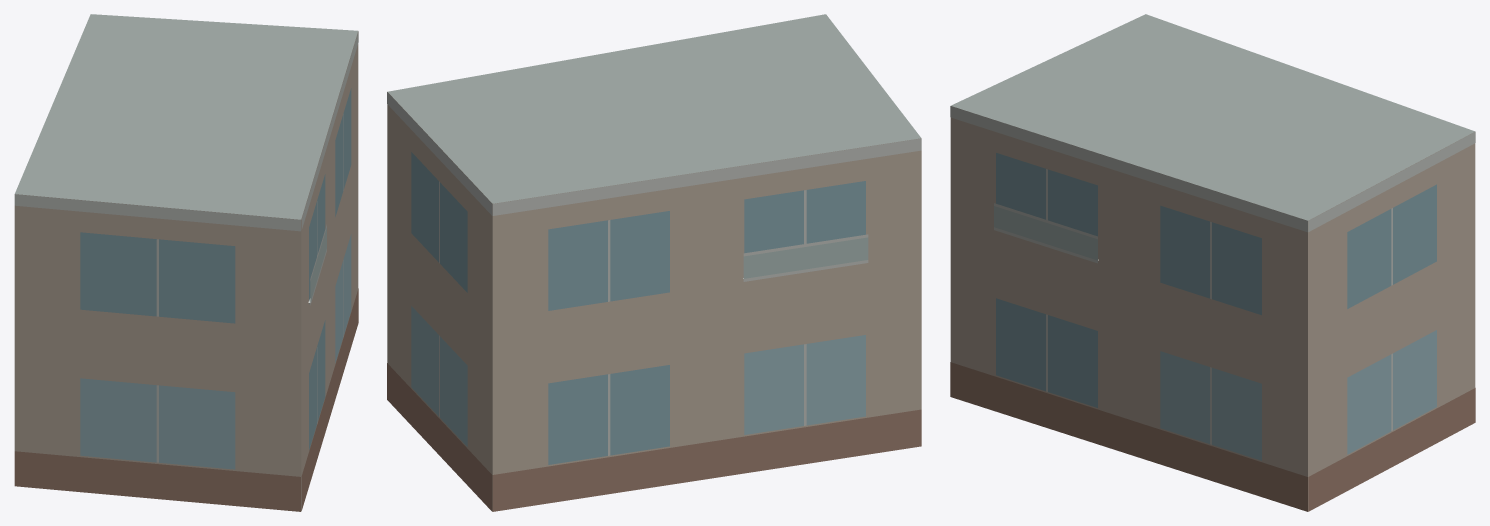
Rendered from survey-upis-32818180.glb.
3 renders of one model, left to right at view 1: azimuth 30°, elevation 25°; view 2: azimuth 150°, elevation 25°; view 3: azimuth 270°, elevation 25°, orthographic. The views are drawn at different scales.
Visible parts, largest first — view 1: survey-upis-32818180.tmp; view 2: survey-upis-32818180.tmp; view 3: survey-upis-32818180.tmp.
Boxes of the visible parts, box(x1,y1,x2,y2) form: survey-upis-32818180.tmp: box(14, 14, 358, 511); survey-upis-32818180.tmp: box(387, 14, 921, 511); survey-upis-32818180.tmp: box(950, 14, 1475, 511).
Size of the model in its own units: 9.3 by 6.1 by 9.98.
